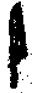Reed: (7, 1, 30, 90)
